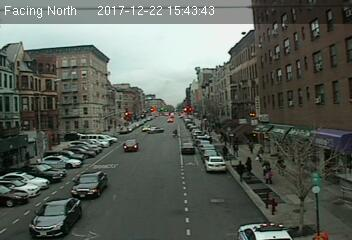car: (28, 199, 82, 238), (72, 169, 107, 200), (204, 155, 226, 174), (123, 139, 138, 151), (181, 142, 194, 155)
police: (239, 220, 291, 240)
